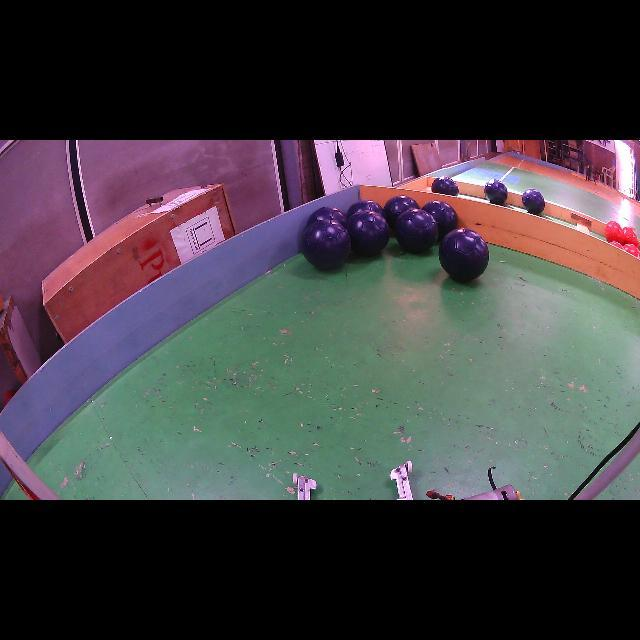B: (439, 229, 489, 281), (301, 219, 351, 269), (394, 209, 439, 252), (348, 210, 390, 256), (422, 200, 458, 239), (384, 195, 419, 228), (306, 206, 348, 226), (346, 199, 385, 218), (484, 179, 508, 205), (522, 189, 545, 215), (431, 176, 459, 196)
R: (605, 221, 625, 244), (622, 226, 638, 246), (622, 244, 640, 259), (609, 241, 624, 249)
